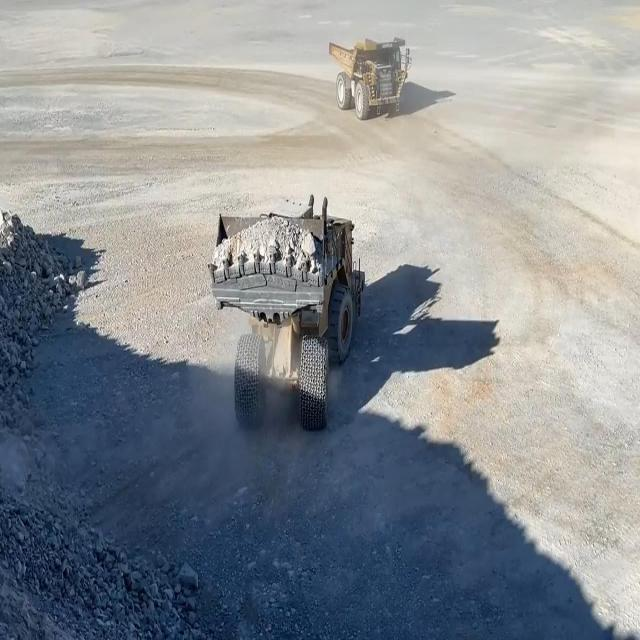Camion volquete: (326, 28, 414, 126)
pala cargadora: (205, 195, 367, 441)
